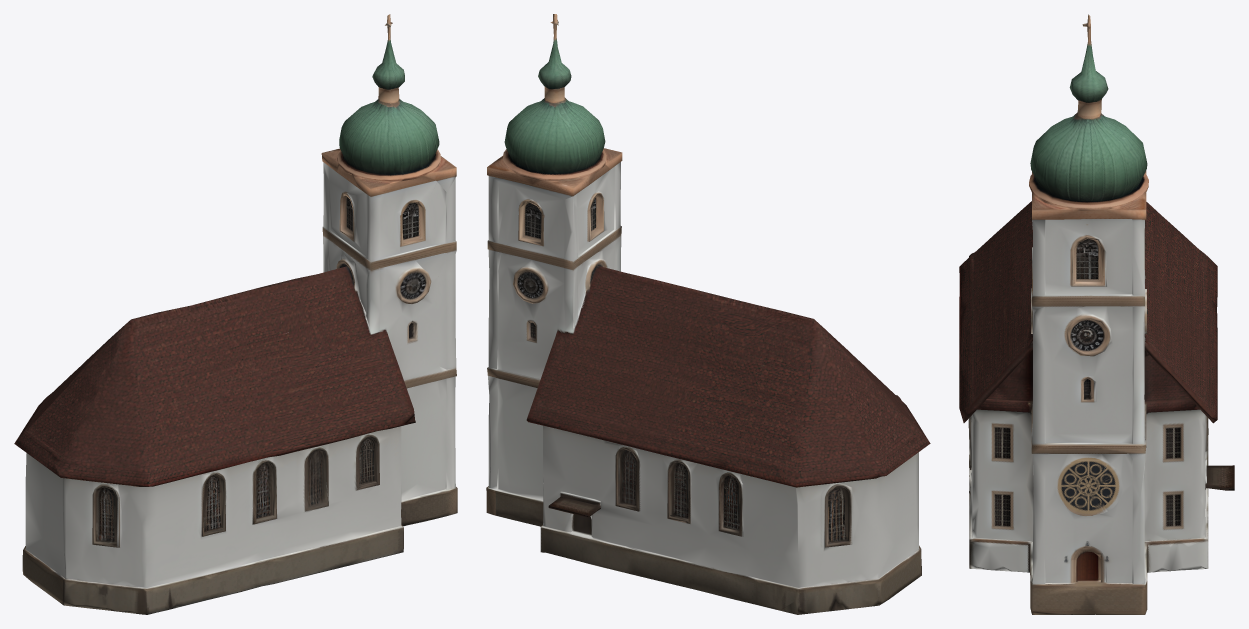
Rendered from church_tripo.glb.
3 views of the same model, side by side, from view 1: azimuth 30°, elevation 25°; view 2: azimuth 150°, elevation 25°; view 3: azimuth 270°, elevation 25° (orthographic). The views are drawn at different scales.
Parts seen in each view (by area): view 1: tripo_node_197d4b0e-b01f-4bed-b411-f260edca1fb9; view 2: tripo_node_197d4b0e-b01f-4bed-b411-f260edca1fb9; view 3: tripo_node_197d4b0e-b01f-4bed-b411-f260edca1fb9.
Part boxes in pixels (x1,y1,x2,y2): tripo_node_197d4b0e-b01f-4bed-b411-f260edca1fb9: [14, 14, 457, 614]; tripo_node_197d4b0e-b01f-4bed-b411-f260edca1fb9: [486, 14, 930, 614]; tripo_node_197d4b0e-b01f-4bed-b411-f260edca1fb9: [959, 14, 1234, 614].
Bounding box in the file's own units: 0.828 × 0.9772 × 0.4246.
1 material, 1 textured.
